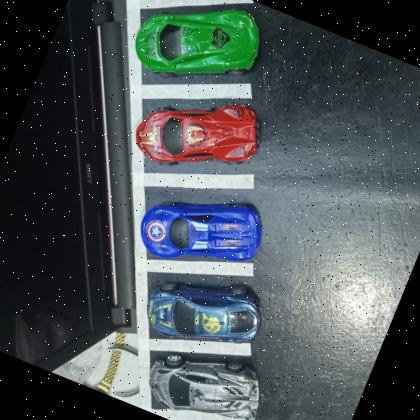Car: (127, 70, 271, 195), (130, 169, 272, 291), (125, 0, 272, 106), (139, 256, 271, 367), (139, 334, 274, 420)
